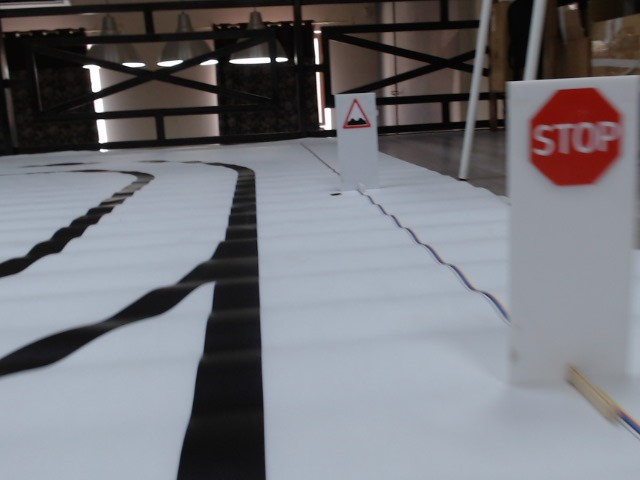Nerov: (339, 97, 372, 131)
Stop: (528, 86, 626, 188)
